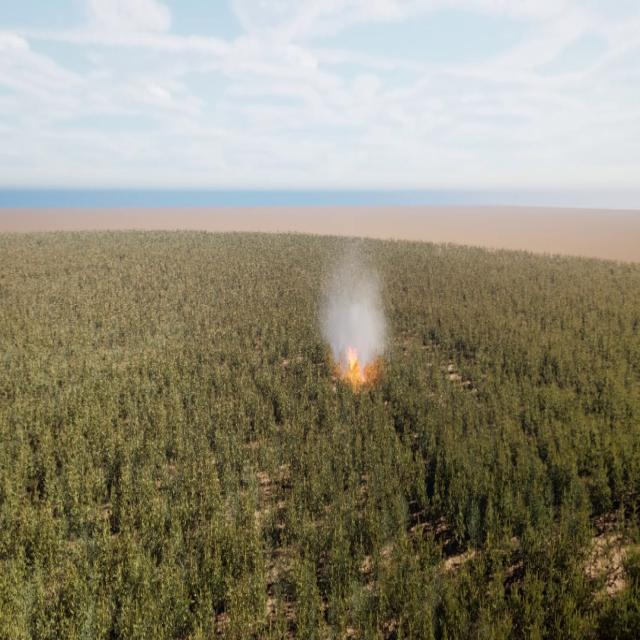fire: (344, 346, 376, 382)
smoke: (312, 241, 391, 377)
